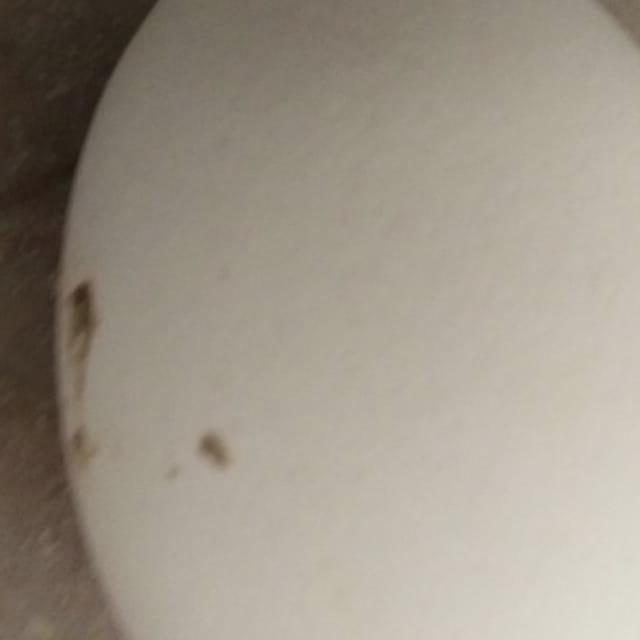egg: (47, 0, 640, 640)
